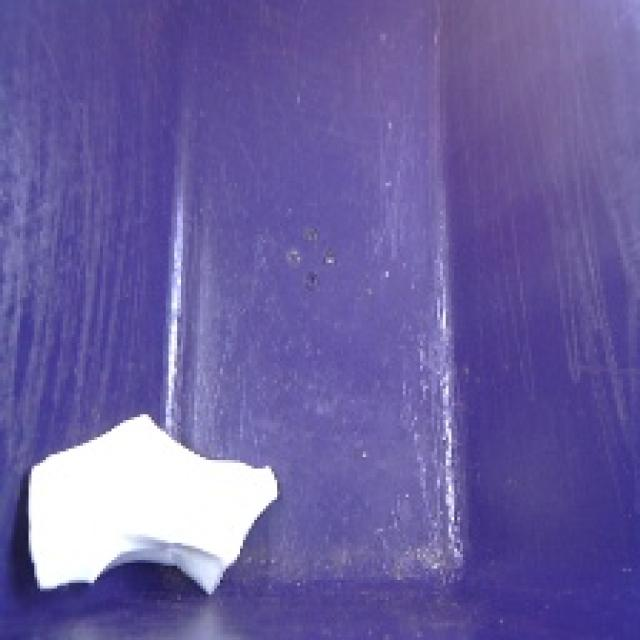china: (18, 403, 286, 611)
